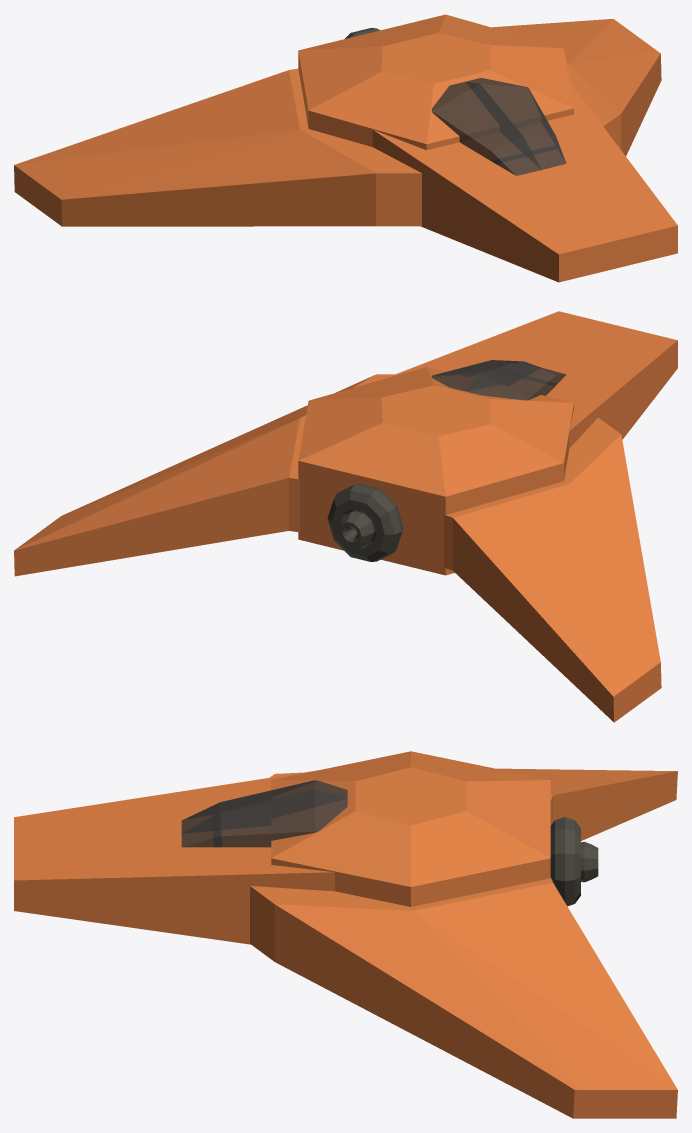
The model's file is orthani-fighter.glb.
The picture shows the model from 3 angles, top to bottom: view 1: azimuth 30°, elevation 25°; view 2: azimuth 150°, elevation 25°; view 3: azimuth 270°, elevation 25°; orthographic projection. The views are drawn at different scales.
Parts seen in each view (by area): view 1: wings, hull-nose, hull-hex, cockpit; view 2: wings, hull-hex, hull-nose, cockpit, torus-drive, torus-drive-thruster; view 3: wings, hull-hex, hull-nose, cockpit, torus-drive, torus-drive-thruster.
Part boxes in pixels (x1,y1,x2,y2): wings: (14, 18, 661, 226); hull-nose: (372, 82, 677, 282); hull-hex: (298, 14, 573, 150); cockpit: (431, 78, 566, 175); wings: (14, 374, 661, 722); hull-hex: (298, 367, 573, 575); hull-nose: (382, 311, 677, 448); cockpit: (431, 360, 565, 400); torus-drive: (327, 483, 403, 561); torus-drive-thruster: (339, 511, 374, 546); wings: (250, 768, 677, 1118); hull-hex: (271, 751, 550, 906); hull-nose: (14, 770, 334, 944); cockpit: (181, 780, 347, 847); torus-drive: (550, 817, 580, 906); torus-drive-thruster: (581, 841, 598, 882).
Bounding box in the file's own units: 14.34 × 3.57 × 12.62.
